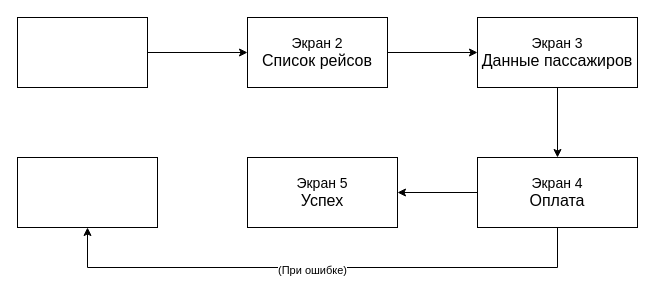
The diagram is 655 pixels wide and 294 high, and some of its shapes have lost their labels. Each missing label, with the centre of its shape:
Экран 1 Главный/Поиск: [82,52]
Экран 6 Ошибка: [87,192]
